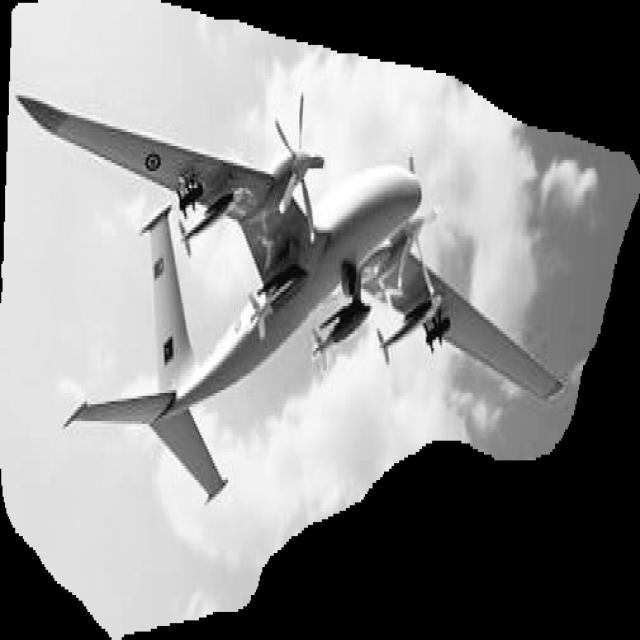iha: (1, 29, 561, 500)
